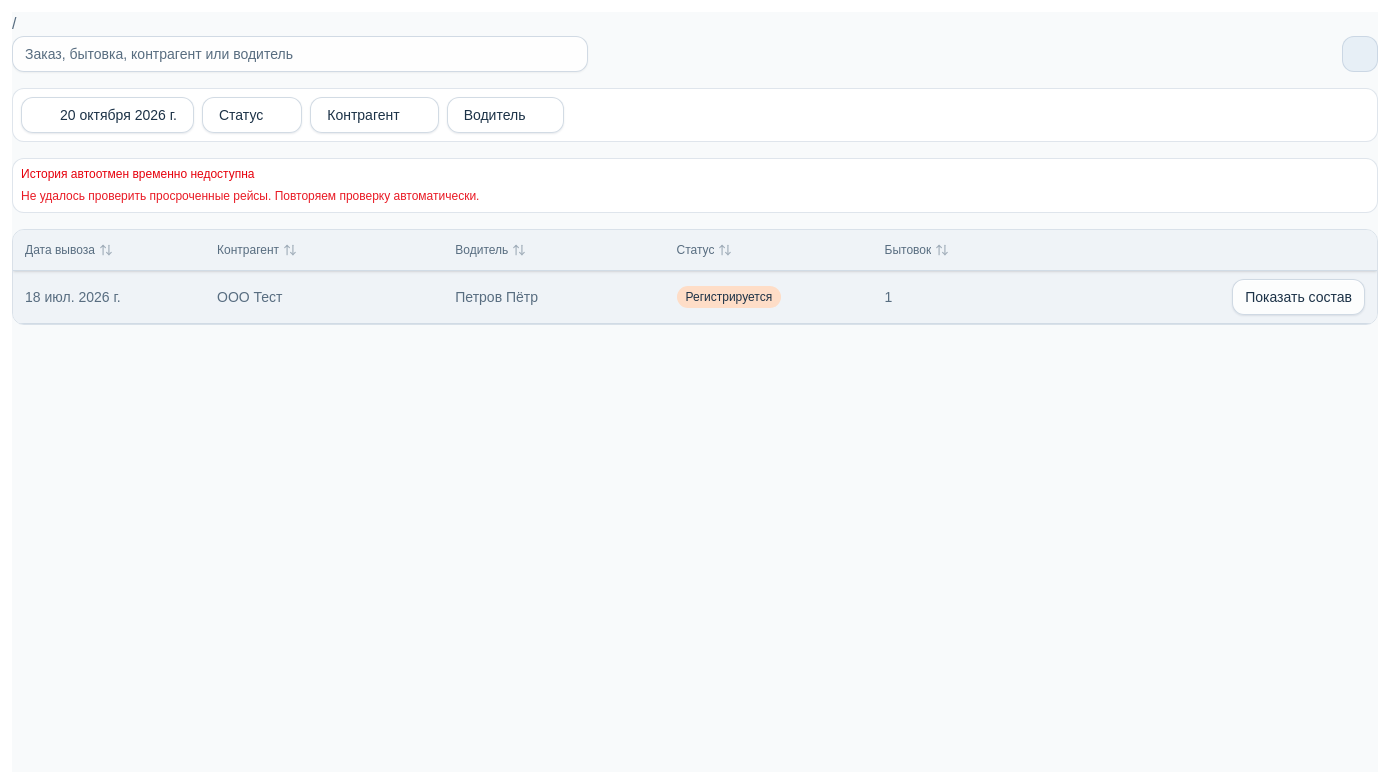
Test: LogisticsReturnsPage › shows the customer, rental, filling, and both drivers when a return is expanded
This screenshot has width=1390, height=772.
What coordinates should you click on to do the following:
click the button "Показать состав"
I would click on:
 (1299, 297)
Its box is [1232,279,1365,315].
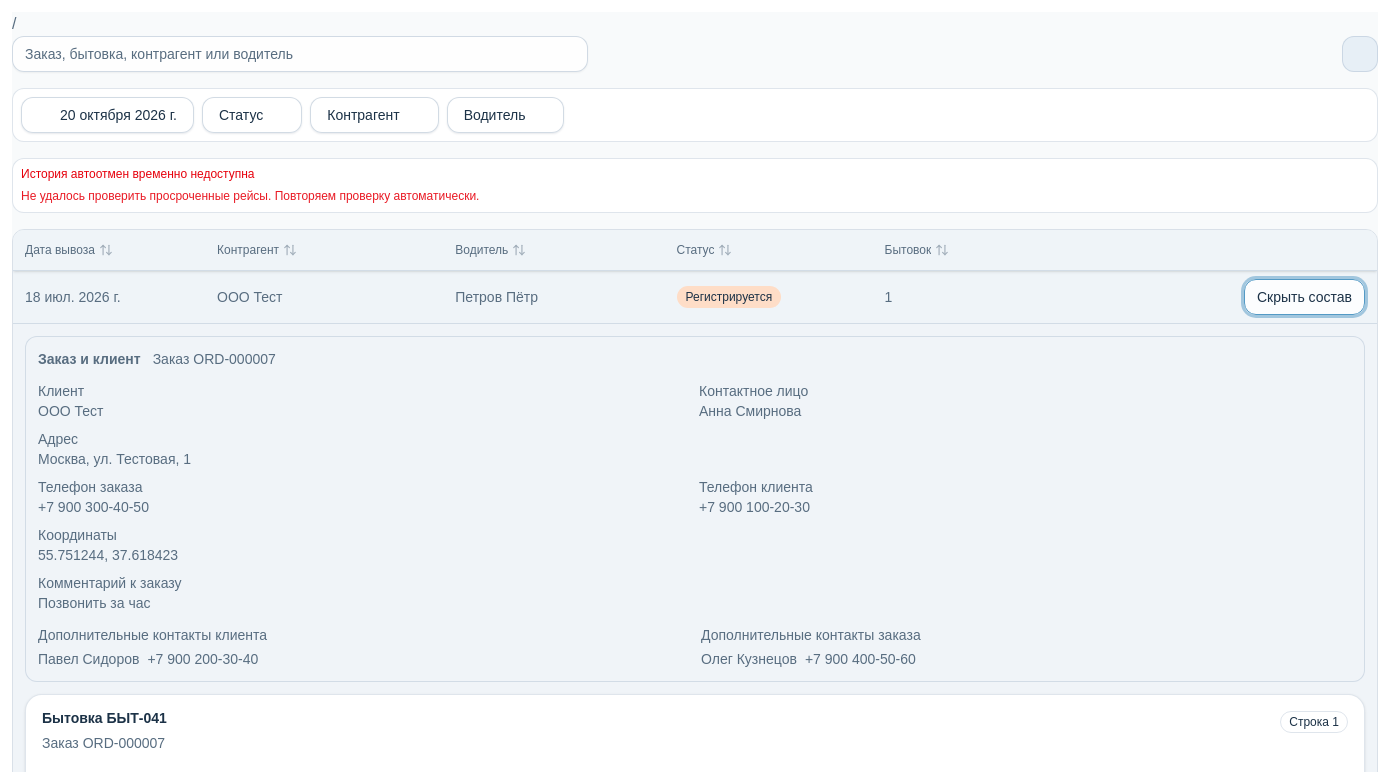
Expected: the element named "Заказ и контакты клиента" is shown, [25,336,1365,682]
Expected: the text "Анна Смирнова" is shown, [699,403,801,419]
Expected: the text "Москва, ул. Тестовая, 1" is shown, [38,451,191,467]
